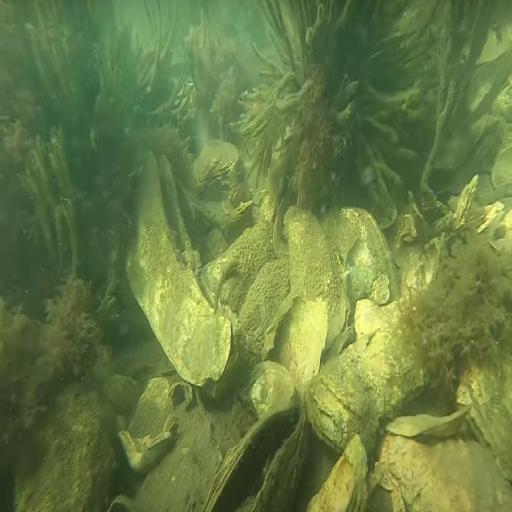Oyster-Closed: (381, 432, 512, 512), (321, 202, 401, 320), (287, 210, 348, 347), (358, 297, 429, 413), (307, 341, 380, 449), (239, 262, 293, 394), (309, 436, 375, 512), (363, 132, 400, 232), (128, 380, 179, 441), (187, 140, 240, 193), (122, 428, 175, 471), (454, 181, 479, 229)
Oyster-Open: (128, 154, 232, 387), (206, 395, 309, 512), (102, 495, 135, 512)
